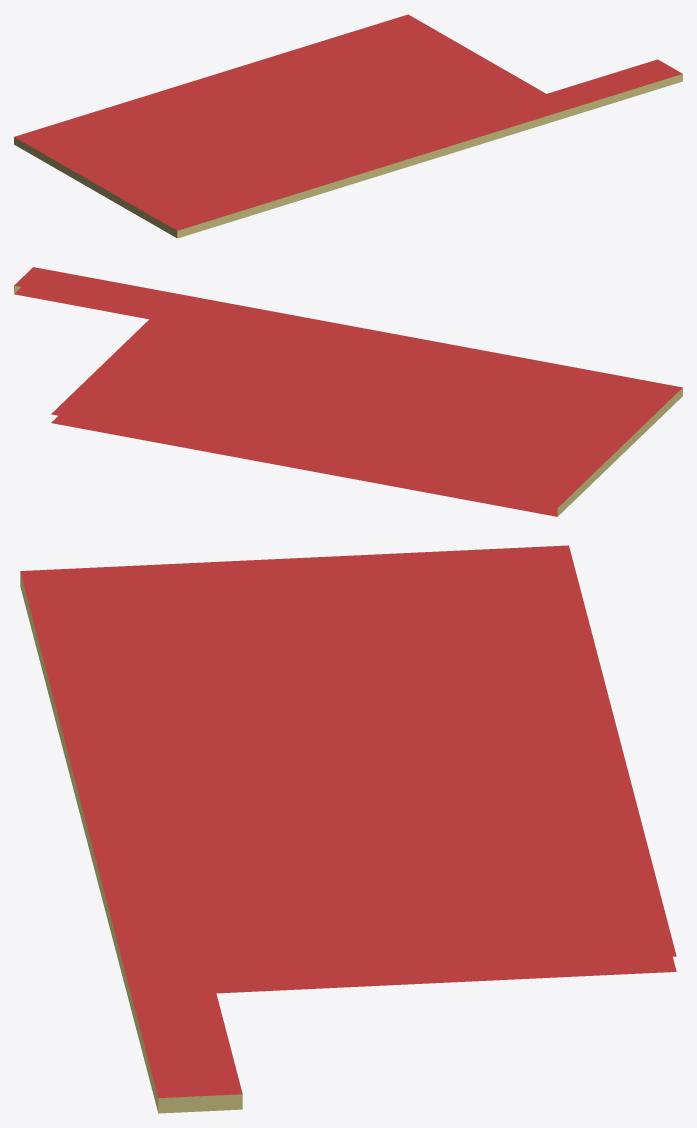
The picture shows the model from 3 angles, top to bottom: view 1: azimuth 30°, elevation 25°; view 2: azimuth 150°, elevation 25°; view 3: azimuth 270°, elevation 25°; orthographic projection. The views are drawn at different scales.
Bounding box in the file's own units: 7.71 × 3.87 × 0.1.
